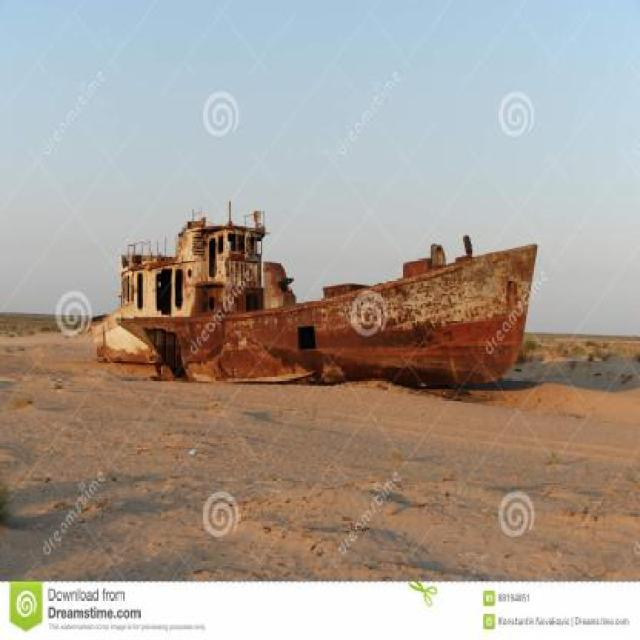corrosion: (106, 207, 551, 390)
